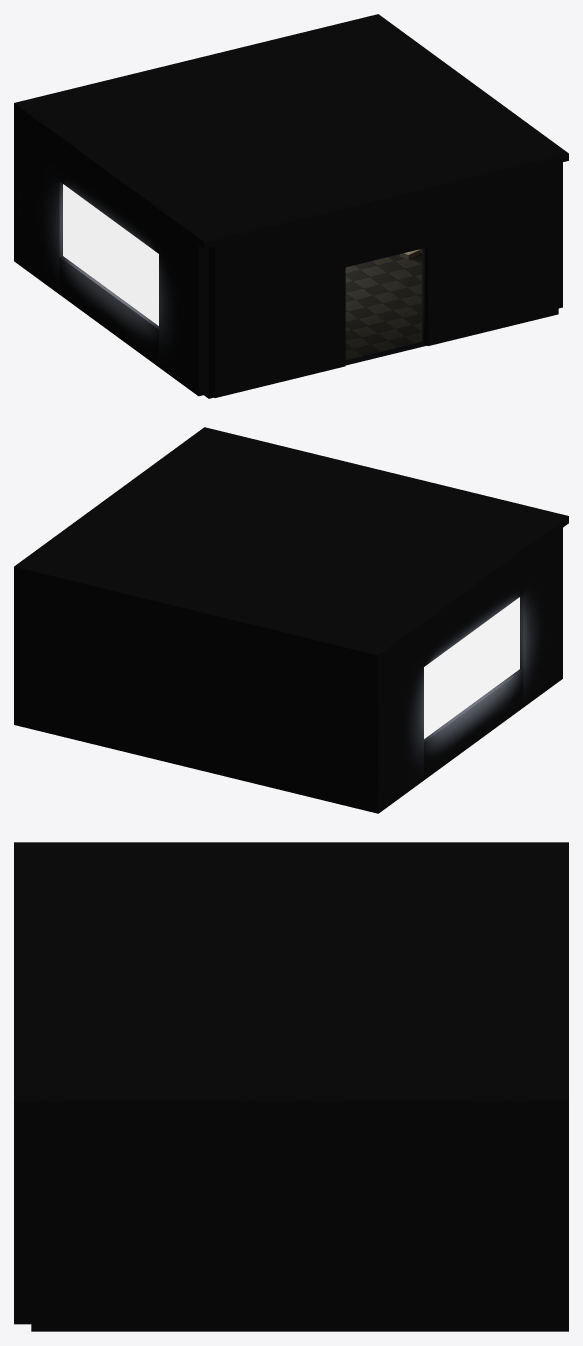
The model's file is room_night.glb.
3 views of the same model, one above another, from view 1: azimuth 30°, elevation 25°; view 2: azimuth 150°, elevation 25°; view 3: azimuth 270°, elevation 25° (orthographic). The views are drawn at different scales.
Visible parts, largest first — view 1: baked_ceiling, baked_walls, baked_floor, window_glass; view 2: baked_walls, baked_ceiling, window_glass; view 3: baked_ceiling, baked_walls.
Boxes of the visible parts, x1,y1,x2,y2 form: baked_ceiling: [14, 14, 568, 249]; baked_walls: [14, 110, 562, 397]; baked_floor: [204, 249, 426, 398]; window_glass: [63, 184, 158, 325]; baked_walls: [14, 528, 562, 813]; baked_ceiling: [14, 427, 568, 662]; window_glass: [424, 597, 519, 738]; baked_ceiling: [14, 842, 568, 1111]; baked_walls: [14, 1111, 568, 1331].
Size of the model in its own units: 10.6 by 4.54 by 9.6.
8 materials, 6 textured.
